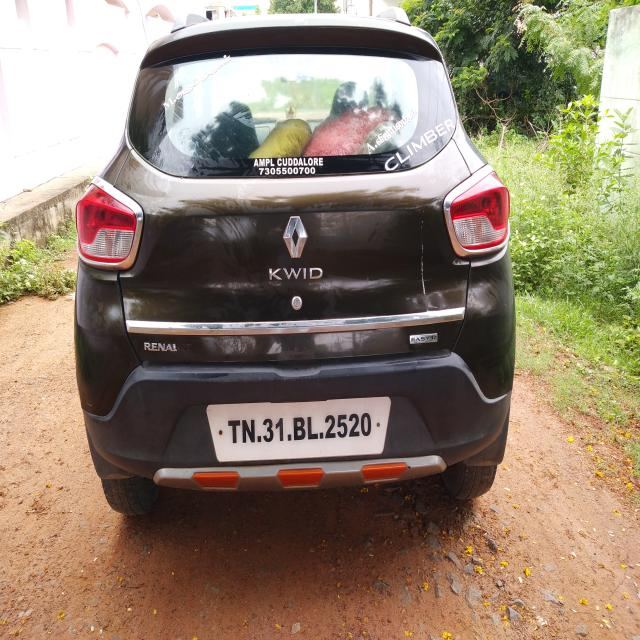scratch: (415, 210, 435, 308)
